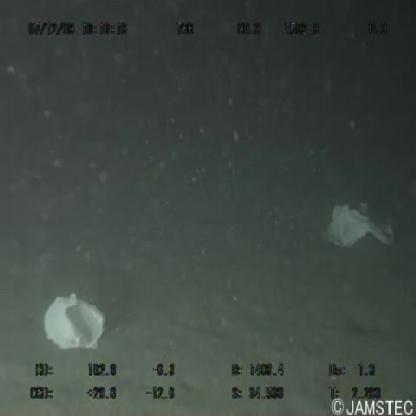Rác: (35, 288, 113, 359), (325, 195, 400, 260)
